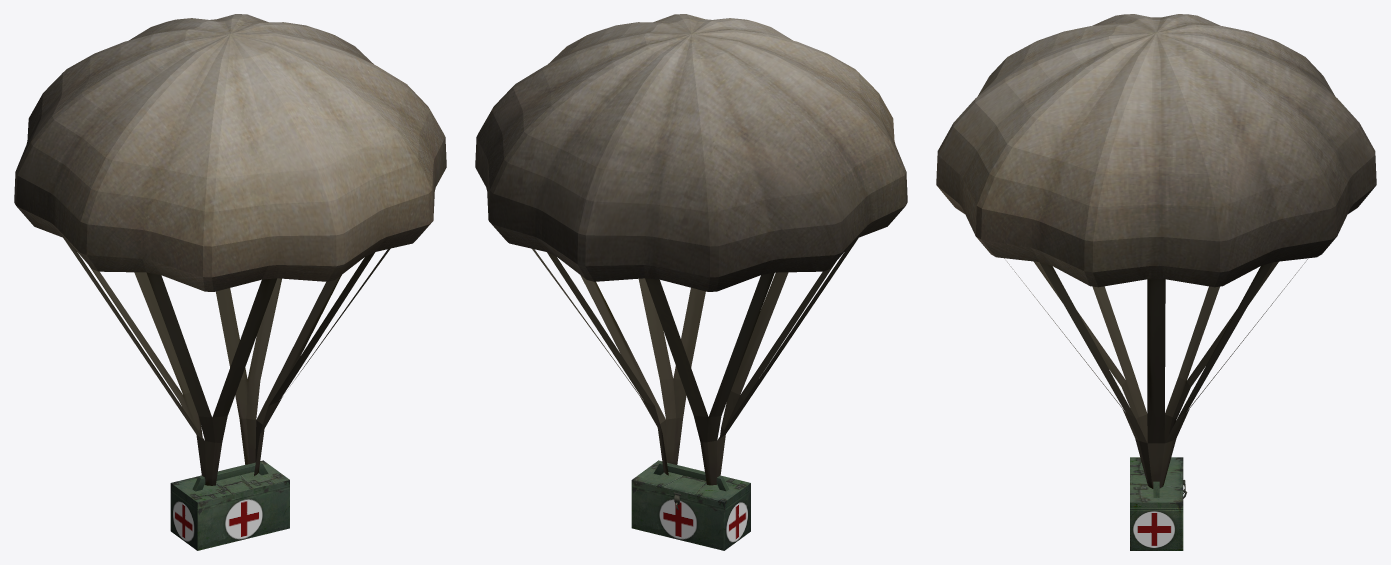
Rendered from Supply_Package.FBX.
The picture shows the model from 3 angles, left to right: view 1: azimuth 30°, elevation 25°; view 2: azimuth 150°, elevation 25°; view 3: azimuth 270°, elevation 25°; orthographic projection.
Visible parts, largest first — view 1: Supply_Package; view 2: Supply_Package; view 3: Supply_Package.
Boxes of the visible parts, x1,y1,x2,y2 form: Supply_Package: [14, 14, 446, 550]; Supply_Package: [475, 14, 907, 550]; Supply_Package: [936, 14, 1376, 550].
Bounding box in the file's own units: 789 × 824 × 1023.
1 material, 1 textured.
